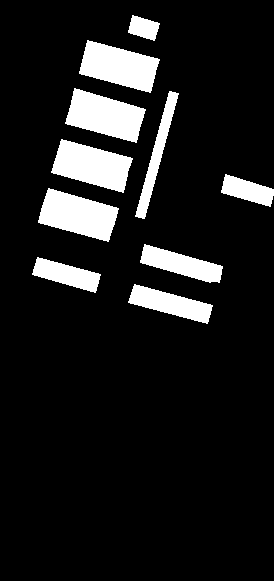parkingspot: (135, 91, 178, 218), (128, 284, 212, 323), (140, 244, 222, 282), (42, 188, 118, 226), (70, 88, 145, 126), (56, 139, 132, 175), (51, 156, 127, 192), (65, 106, 140, 142), (38, 205, 113, 241), (79, 57, 155, 92), (83, 40, 159, 74), (32, 257, 100, 292), (221, 174, 274, 206), (128, 15, 159, 40)
